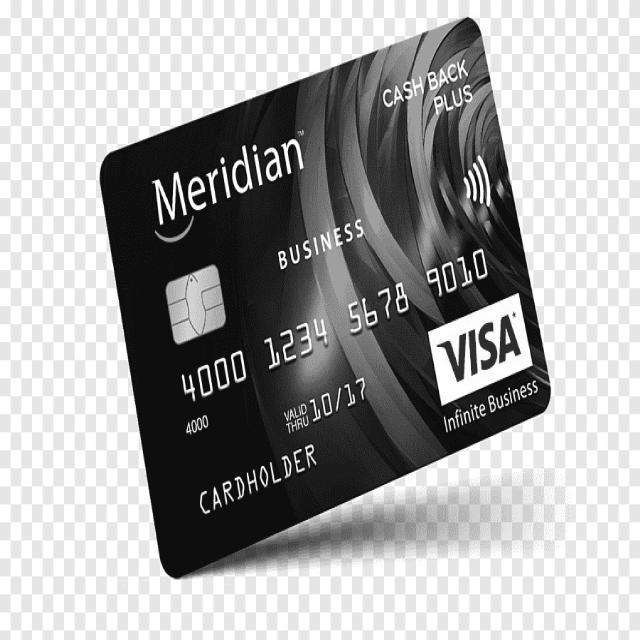card: (98, 18, 558, 584)
